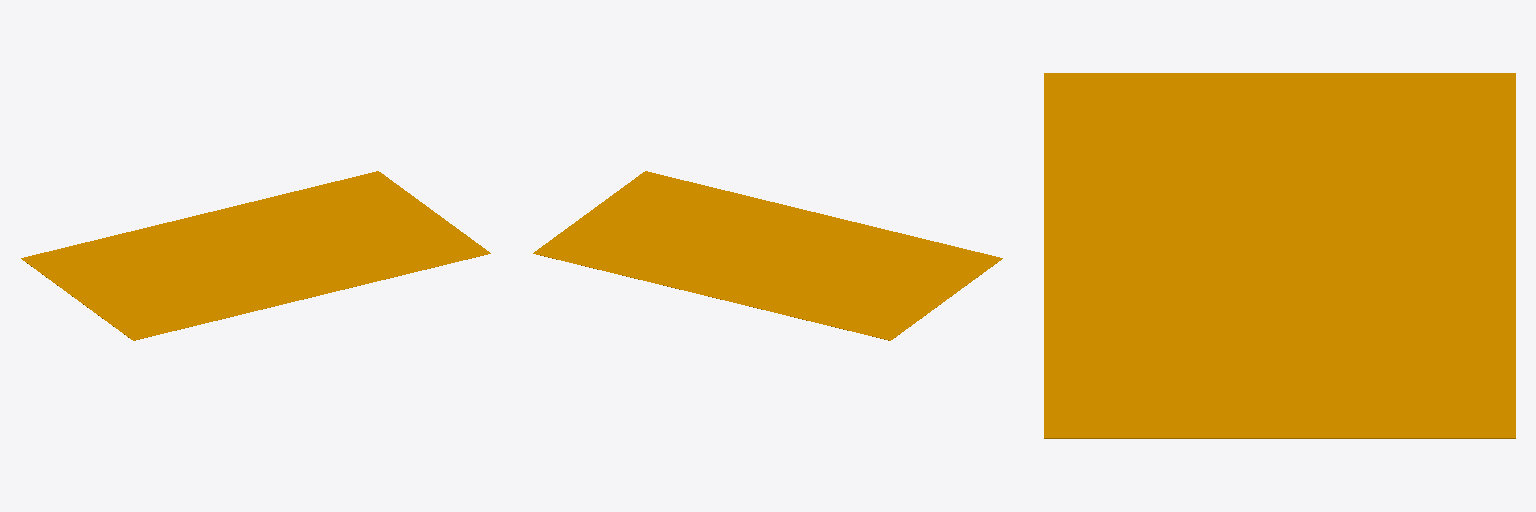
robot.urdf — FCS_wr:
<?xml version="1.0"?>
<robot xmlns:sensor="http://playerstage.sourceforge.net/gazebo/xmlschema/#sensor"
       xmlns:controller="http://playerstage.sourceforge.net/gazebo/xmlschema/#controller"
       xmlns:interface="http://playerstage.sourceforge.net/gazebo/xmlschema/#interface"
       xmlns:xacro="http://ros.org/wiki/xacro"
       name="FCS_wr">
       
<link name="FCS_wr">
     <inertial>
      <origin xyz="1.75 7.3 0.0505" rpy="0 0 0" /> 
      <mass value="2.0" />
      <inertia  ixx="1.0" ixy="0.0"  ixz="0.0"  iyy="100.0"  iyz="0.0"  izz="1.0" />
    </inertial>
    <visual>
      <origin xyz="1.75 7.3 0.0505" rpy="0 0 0" /> 
      <geometry>
        <box size="3.3 1.8 0.001" />
      </geometry>
    </visual>
    <collision name="FCS_wr">
     <origin xyz="1.75 7.3 0.0505" rpy="0 0 0" /> 
      <geometry>
       <box size="3.3 1.8 0.001" />
      </geometry>
    </collision>
  </link>
  <gazebo reference="FCS_wr">
    <material>Gazebo/LightWood</material>    
  </gazebo>
       
<gazebo reference="FCS_wr">
      <selfCollide>true</selfCollide>
      <sensor:contact name="FCS_wr">
        <geom>FCS_wr_geom</geom>
        <updateRate>100.0</updateRate>
        <controller:gazebo_ros_bumper name="gazebo_ros_bumper_controller" plugin="libgazebo_ros_bumper.so">
          <alwaysOn>true</alwaysOn>
          <updateRate>100.0</updateRate>
          <bumperTopicName>/angen_contact/FCS/workroom</bumperTopicName>
          <interface:bumper name="contact_bumper_iface" />
        </controller:gazebo_ros_bumper>
      </sensor:contact>
    </gazebo>
</robot>

--- Facts derived from the render (not from the file) ---
The picture shows the robot from 3 angles, left to right: view 1: azimuth 30°, elevation 25°; view 2: azimuth 150°, elevation 25°; view 3: azimuth 270°, elevation 25°; orthographic projection.
Robot: FCS_wr — 1 links, 0 joints (none); root link FCS_wr; default pose: every joint at zero.
Links seen in each view (by area): view 1: FCS_wr; view 2: FCS_wr; view 3: FCS_wr.
Boxes of the visible links, x1=… form: FCS_wr: x1=21, y1=171, x2=490, y2=340; FCS_wr: x1=533, y1=171, x2=1002, y2=340; FCS_wr: x1=1044, y1=73, x2=1515, y2=438.
Bounding box of the posed robot: 3.3 × 1.8 × 0.001 m (x, y, z).
Geometry: primitives only (box / cylinder / sphere), no mesh files.
